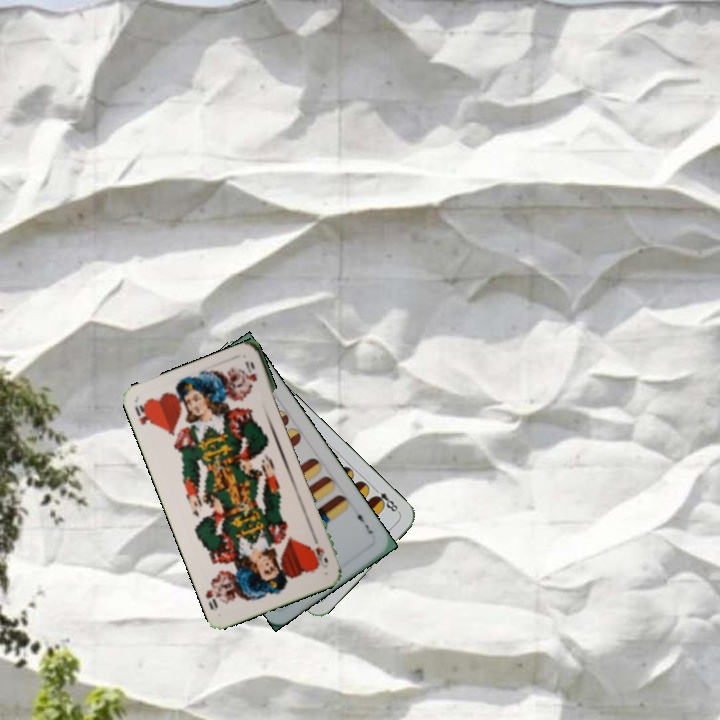E7: (352, 506, 376, 537)
E8: (369, 484, 402, 516)
HO: (309, 532, 331, 568), (131, 399, 156, 429)
